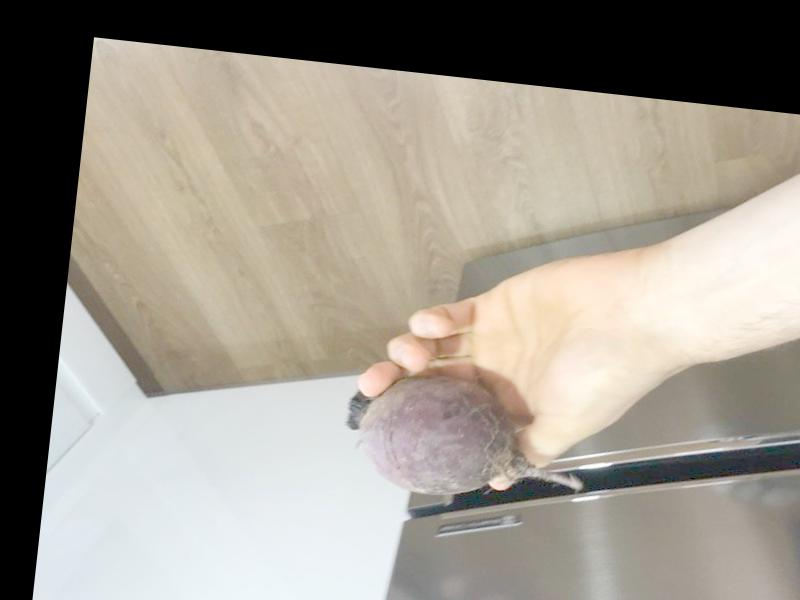Beet: (337, 369, 588, 508)
